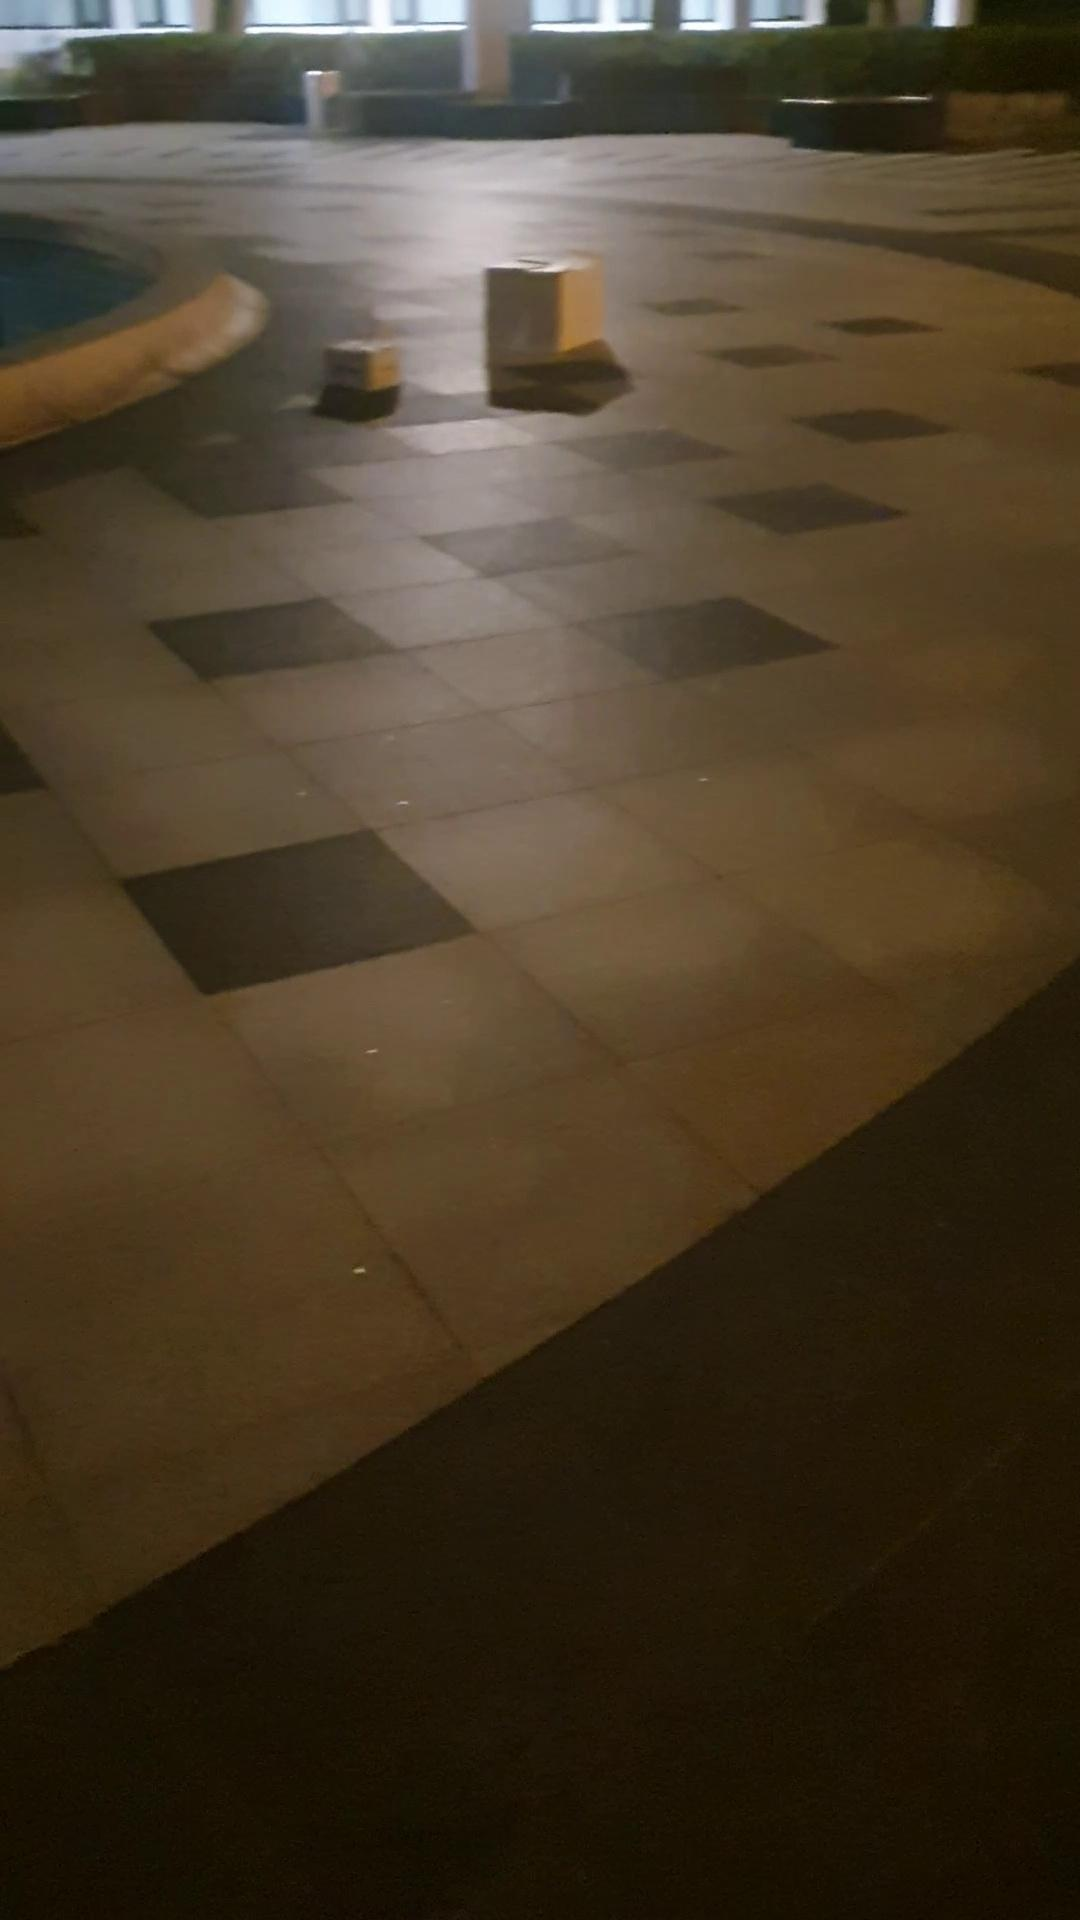Box: (468, 240, 611, 384), (309, 328, 410, 404)
